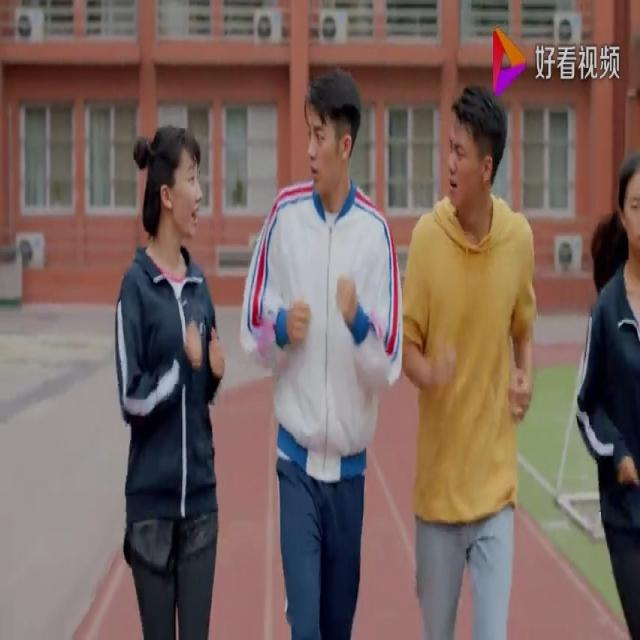non-fight: (243, 64, 408, 639), (403, 83, 540, 636), (116, 120, 228, 639), (576, 152, 639, 639)
